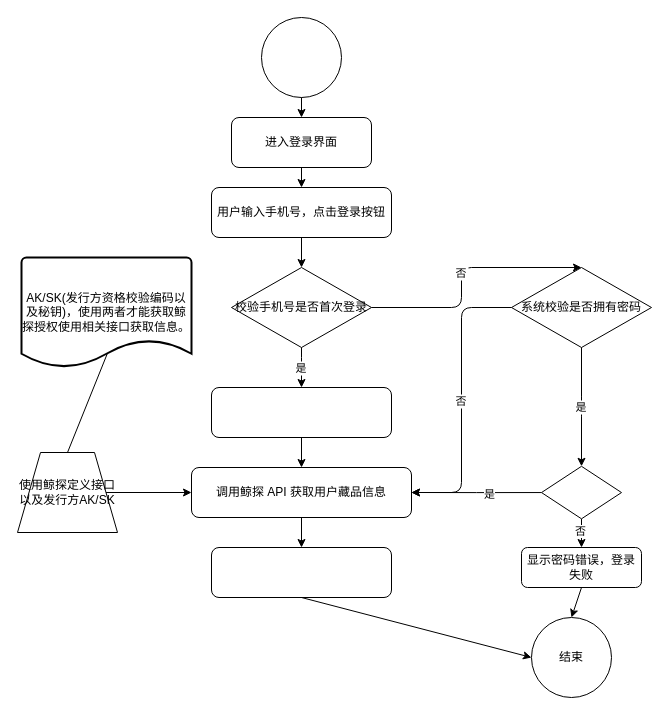
This 669x715 diagram has some shape labels left out. Here are the shapes that lost their labels. From the top down, the box of each, then its label:
(260, 16, 342, 98): 开始
(210, 386, 392, 438): 收录相关个人信息
(540, 465, 622, 519): 密码是否正确
(210, 546, 392, 598): 显示登录成功，进入主页
